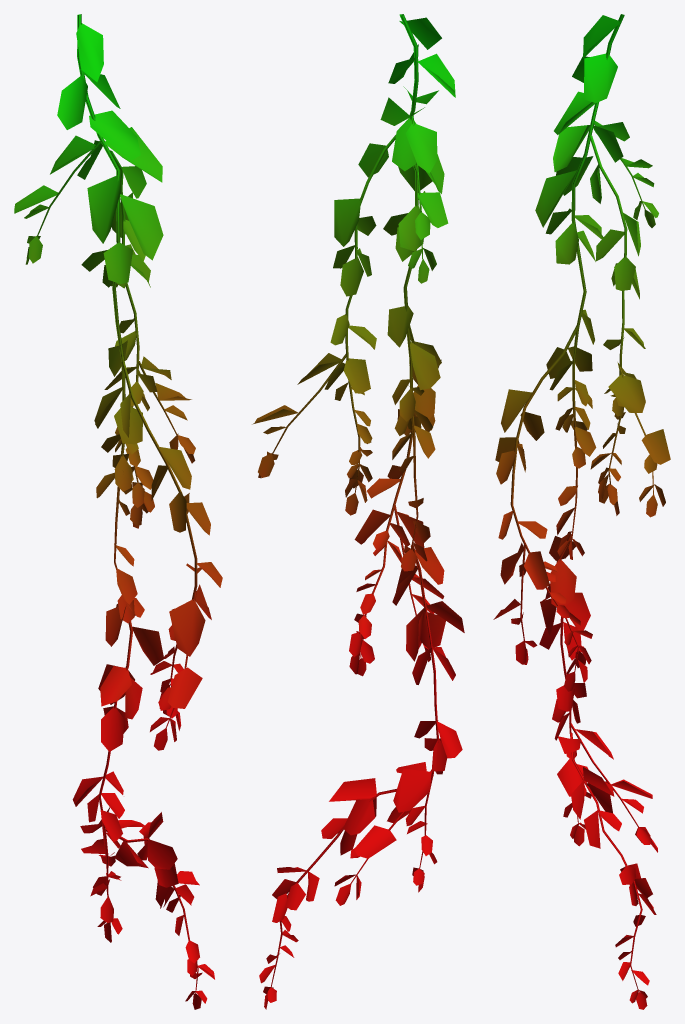
Rendered from Var9_LOD3.fbx.
3 views of the same model, side by side, from view 1: azimuth 30°, elevation 25°; view 2: azimuth 150°, elevation 25°; view 3: azimuth 270°, elevation 25° (orthographic). The views are drawn at different scales.
Visible parts, largest first — view 1: _exyg_Var9_LOD3; view 2: _exyg_Var9_LOD3; view 3: _exyg_Var9_LOD3.
Boxes of the visible parts, x1,y1,x2,y2 form: _exyg_Var9_LOD3: (14,14,222,1009); _exyg_Var9_LOD3: (252,14,464,1009); _exyg_Var9_LOD3: (493,14,670,1009).
Size of the model in its own units: 29.65 by 152 by 26.13.
